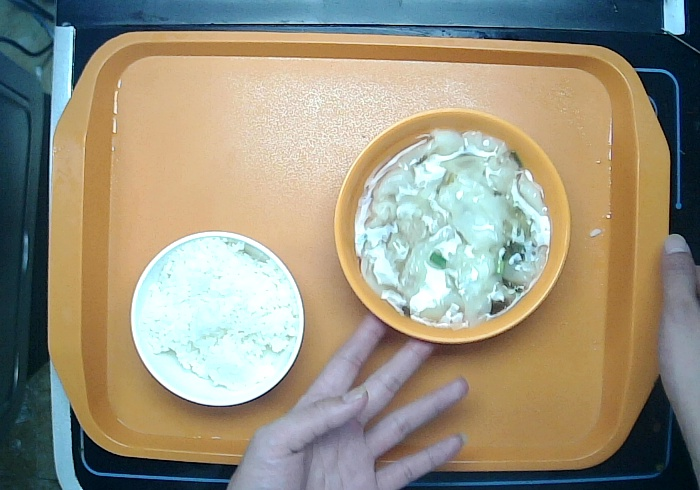NLDX-Fan_Wan: (129, 230, 307, 408)
NLDX-Hun_Tun_Wan: (332, 108, 569, 343)
